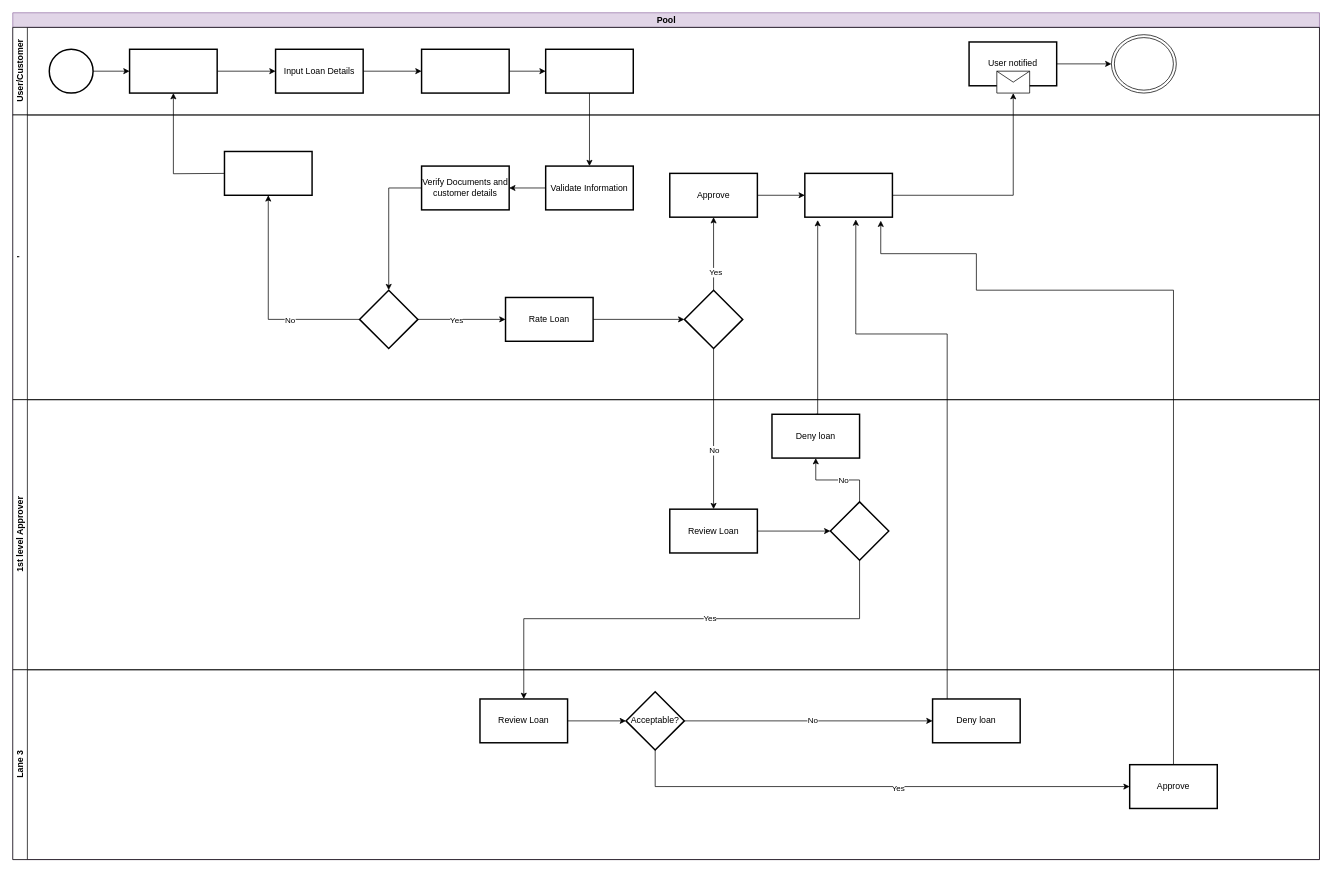
Some shapes in this 1332 by 872 pixel diagram are drawn without their labels. The shapes that lost their labels are listed below. From the top down, each one's centre as x and y in pixels, then its label:
At (x=173, y=70): "Input customer details".
At (x=465, y=70): "Upload documents".
At (x=589, y=70): "Submit".
At (x=267, y=173): "Send failure notification".
At (x=848, y=195): "Send Email".
At (x=388, y=319): "Valid?".
At (x=713, y=319): "Qualified?".
At (x=859, y=531): "Special Case".
